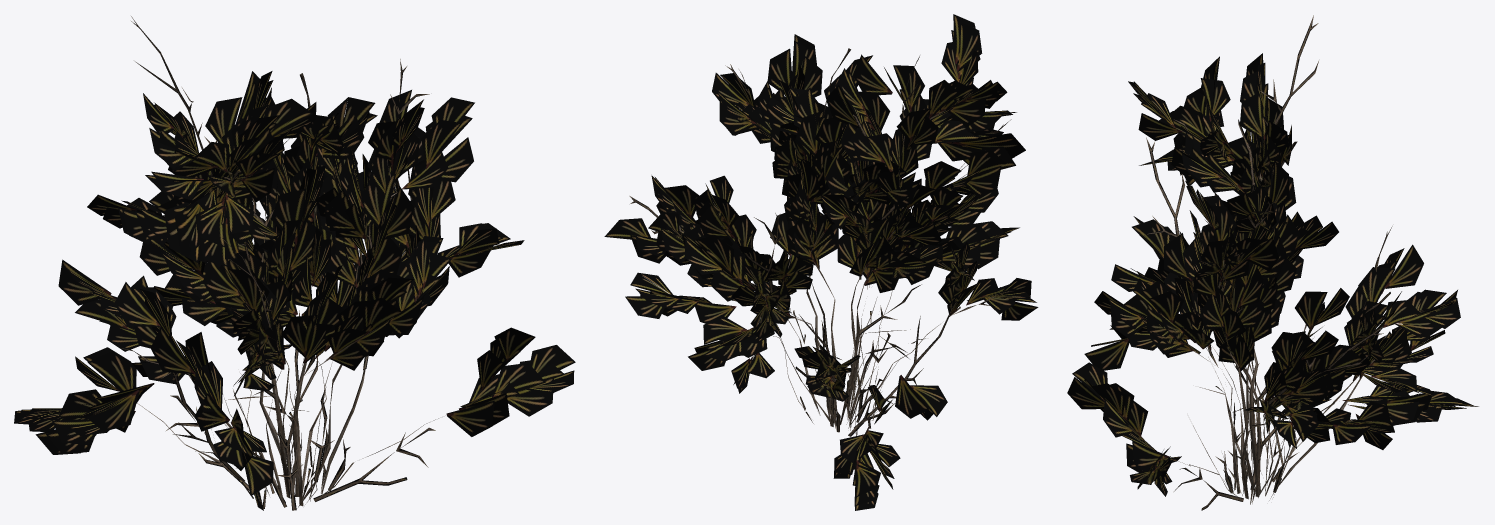
The model's file is bush_b_near.gltf.
The picture shows the model from 3 angles, left to right: view 1: azimuth 30°, elevation 25°; view 2: azimuth 150°, elevation 25°; view 3: azimuth 270°, elevation 25°; orthographic projection. The views are drawn at different scales.
Visible parts, largest first — view 1: bush_b_near; view 2: bush_b_near; view 3: bush_b_near.
Part boxes in pixels (x1,y1,x2,y2): bush_b_near: (14,16,575,510); bush_b_near: (604,14,1038,510); bush_b_near: (1067,15,1478,510).
Size of the model in its own units: 1.07 by 1.1 by 0.9647.
Materials: 3 (3 with a texture image).
